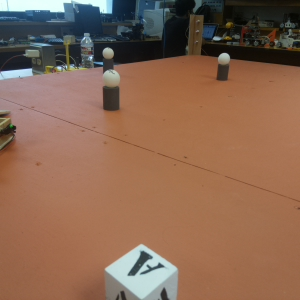obstacle: (100, 65, 128, 116), (214, 51, 231, 84), (100, 45, 118, 65)
